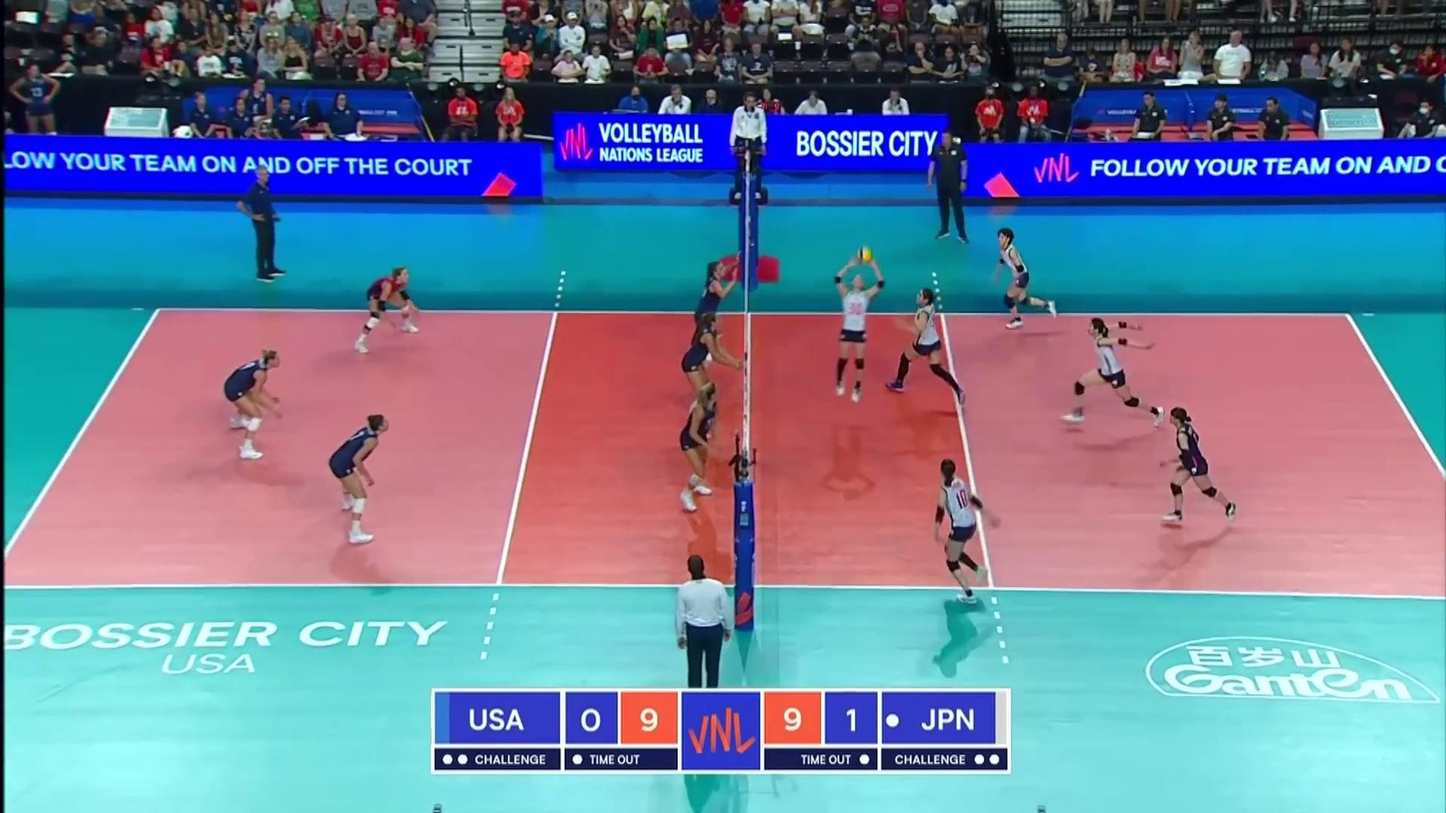player: (1062, 321, 1167, 432), (1160, 406, 1238, 528), (935, 456, 998, 605), (889, 288, 968, 405), (323, 416, 389, 546), (680, 311, 744, 437), (827, 255, 881, 396), (217, 350, 282, 460), (995, 230, 1055, 333), (357, 268, 422, 355), (679, 381, 720, 513), (693, 261, 737, 382)
refree: (670, 558, 731, 713), (728, 94, 767, 195)
